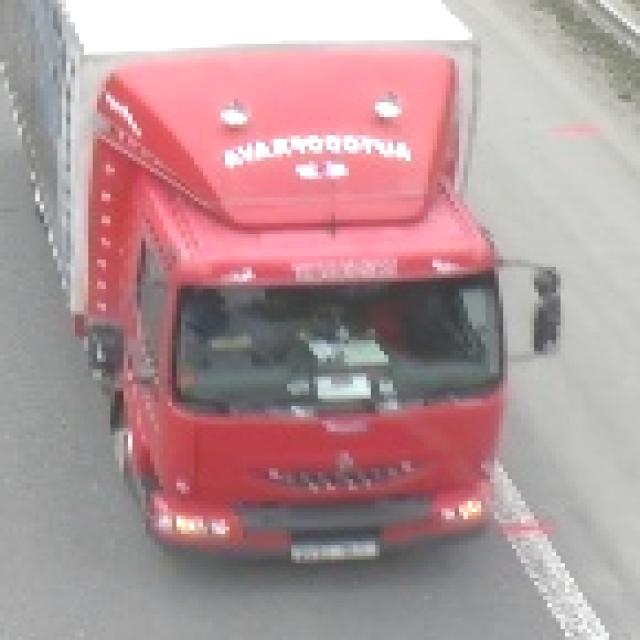truck: (1, 1, 553, 572)
